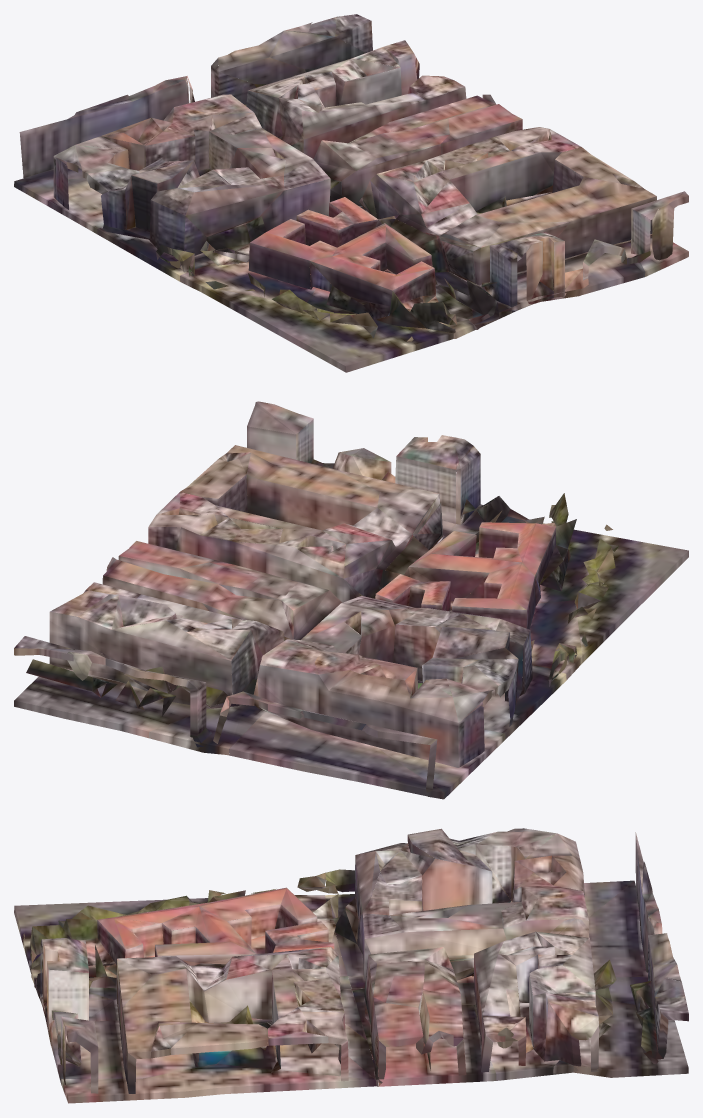
3 views of the same model, one above another, from view 1: azimuth 30°, elevation 25°; view 2: azimuth 150°, elevation 25°; view 3: azimuth 270°, elevation 25° (orthographic). The views are drawn at different scales.
Parts seen in each view (by area): view 1: Mesh_0; view 2: Mesh_0; view 3: Mesh_0.
Part boxes in pixels (x1,y1,x2,y2): Mesh_0: [14, 14, 688, 372]; Mesh_0: [14, 401, 688, 799]; Mesh_0: [14, 828, 688, 1103].
Size of the model in its own units: 266 by 46.09 by 330.
Materials: 2 (2 with a texture image).
